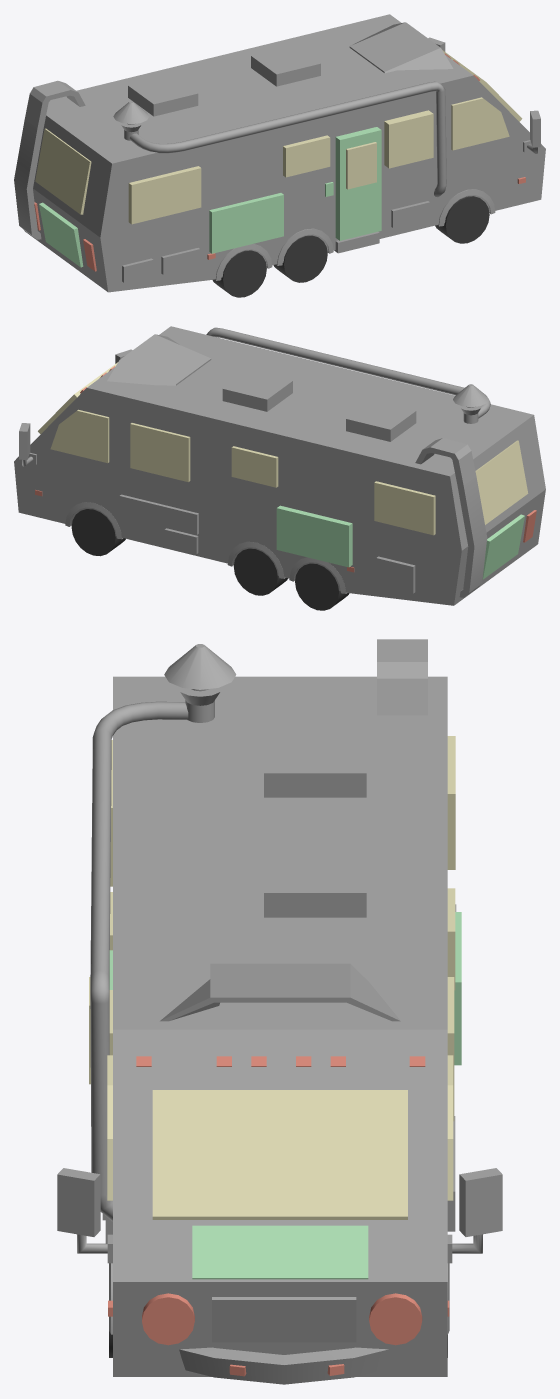
Rendered from Car.fbx.
3 views of the same model, one above another, from view 1: azimuth 30°, elevation 25°; view 2: azimuth 150°, elevation 25°; view 3: azimuth 270°, elevation 25° (orthographic). The views are drawn at different scales.
Parts seen in each view (by area): view 1: pCube53; view 2: pCube53; view 3: pCube53.
Part boxes in pixels (<box>): pCube53: <box>14,14,545,297</box>; pCube53: <box>14,326,545,610</box>; pCube53: <box>57,639,502,1384</box>.
Size of the model in its own units: 10.83 by 4.46 by 4.48.
